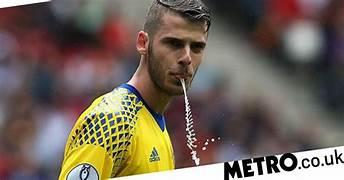Spitting: (118, 0, 228, 113)
